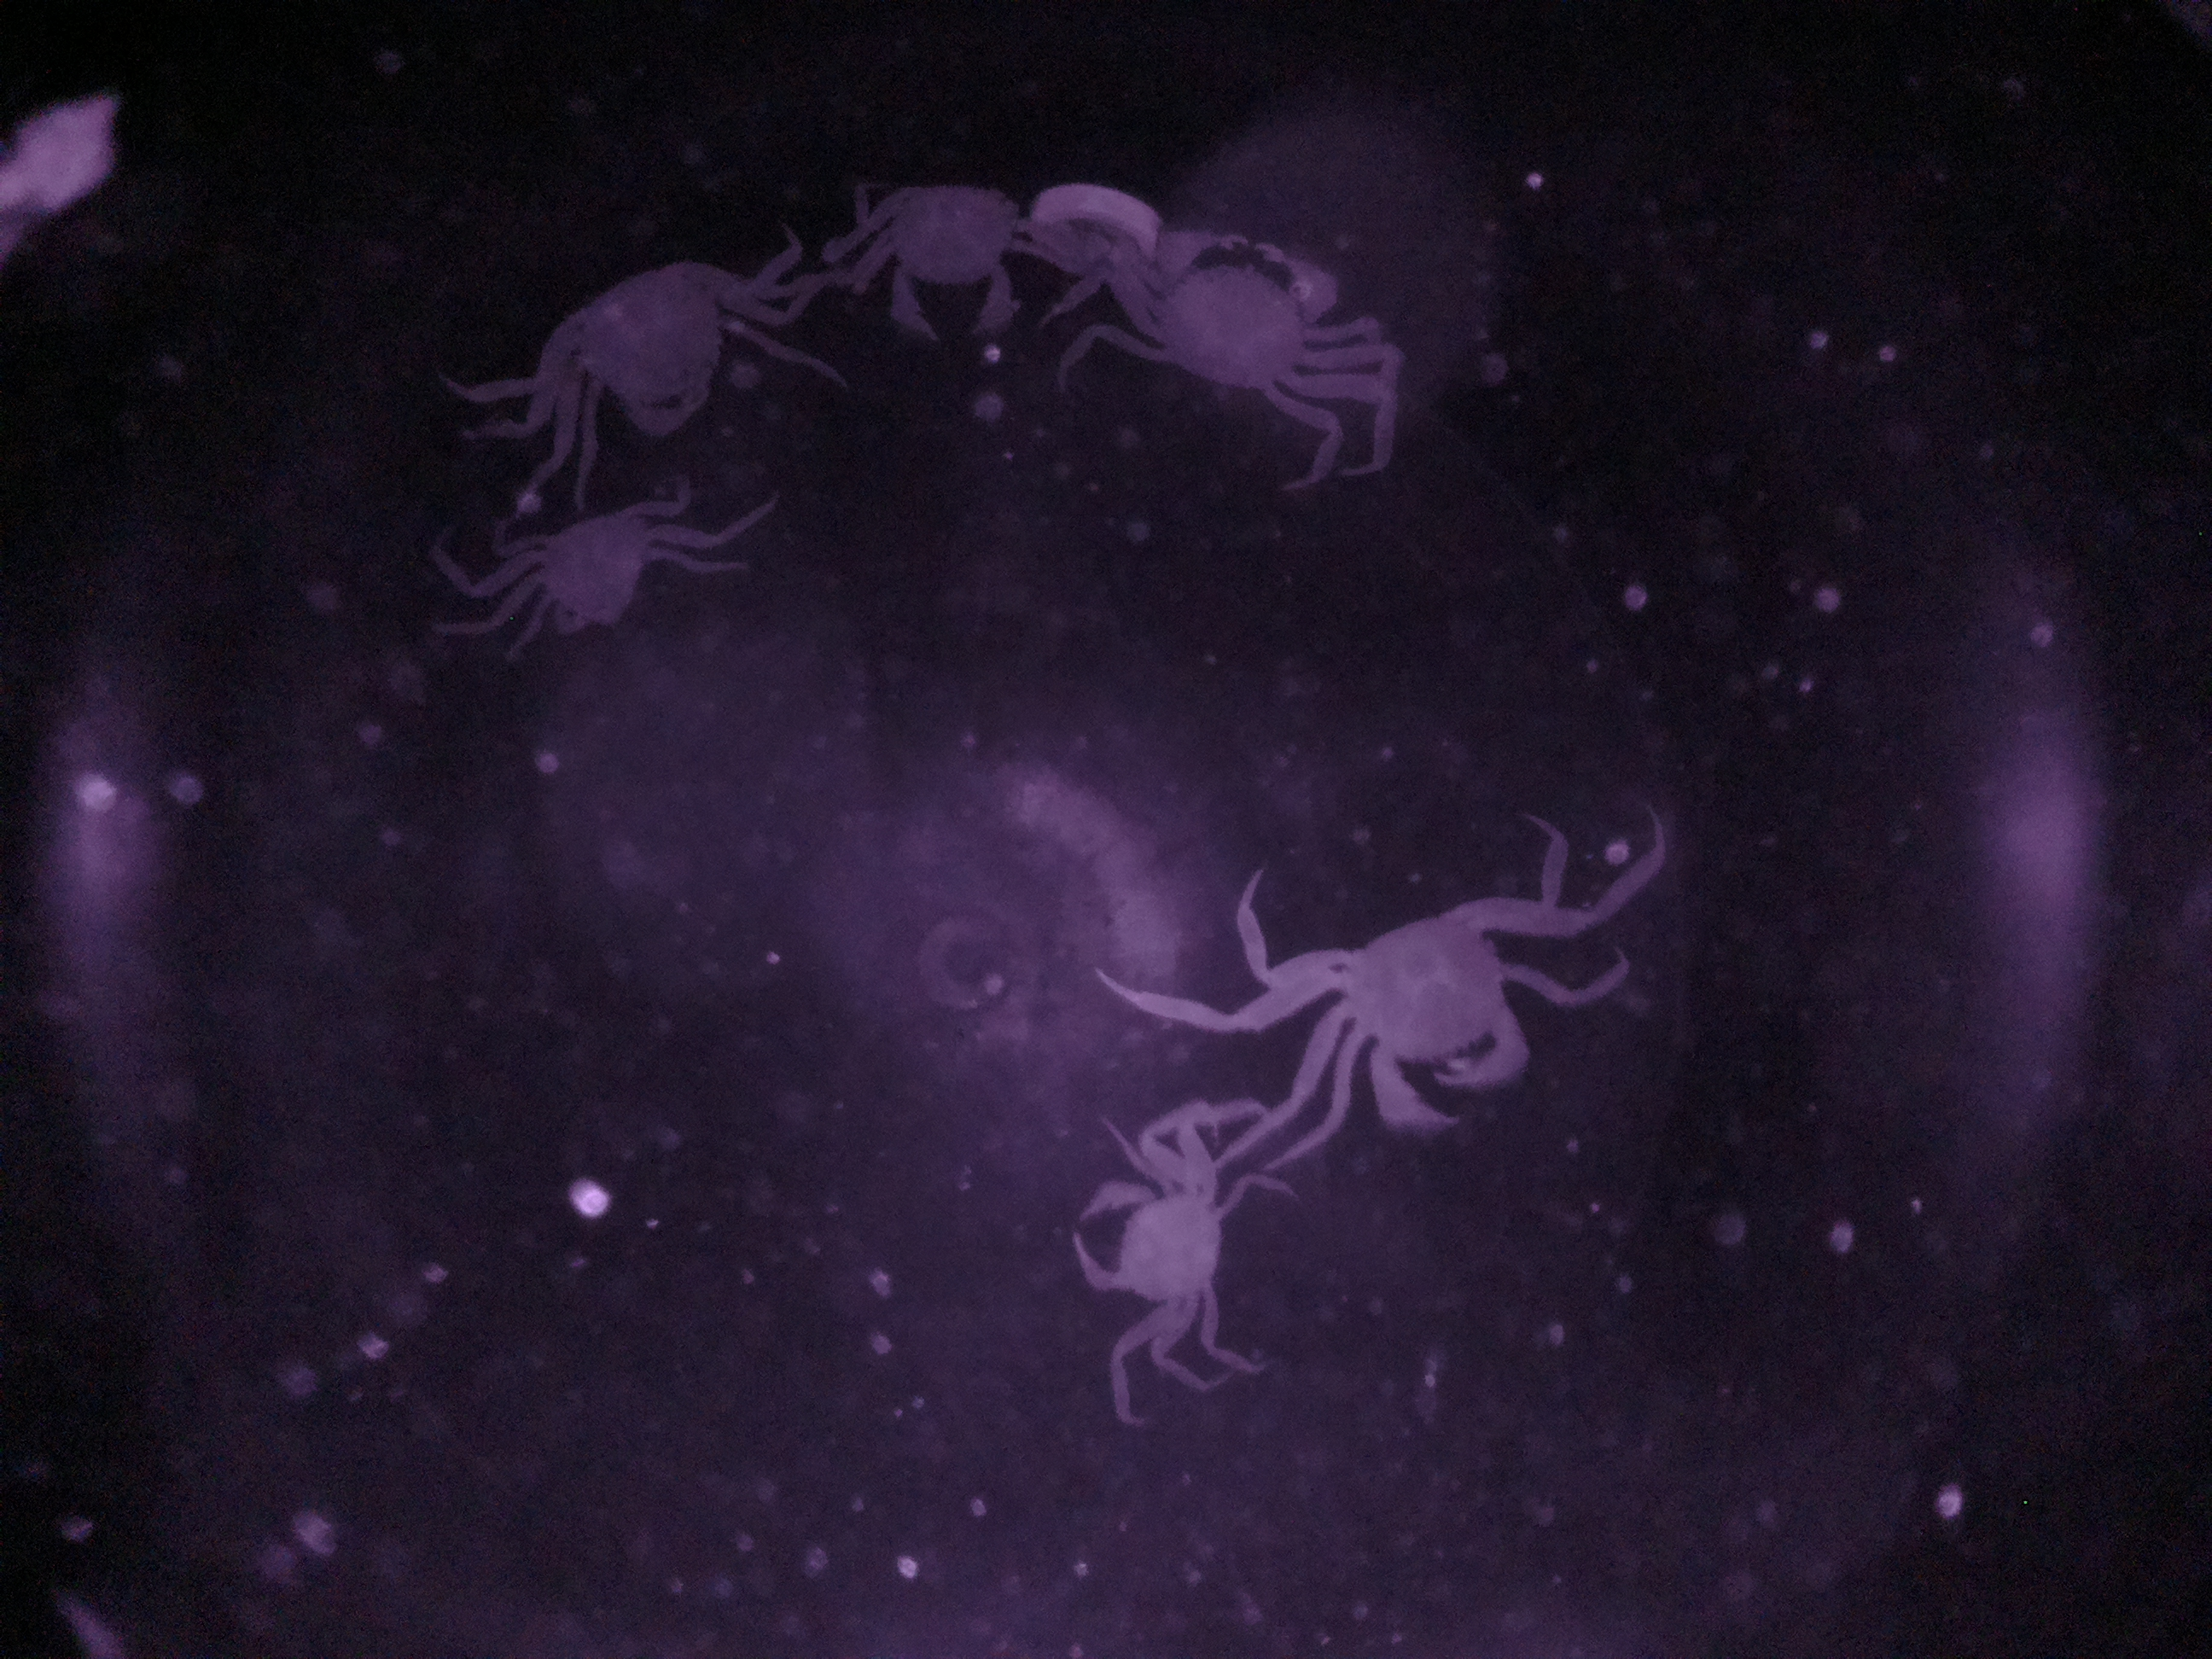Crab: (1224, 871, 1564, 1150), (1092, 223, 1348, 430), (1071, 1098, 1252, 1380), (442, 484, 709, 660)
